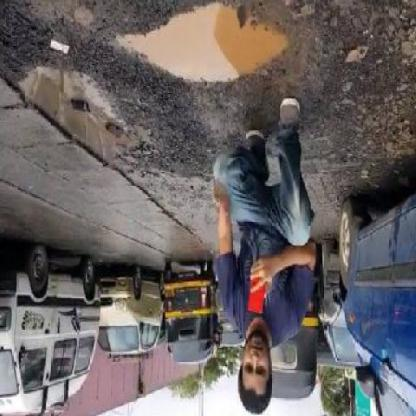pothole: (116, 5, 292, 91), (17, 69, 147, 167)
